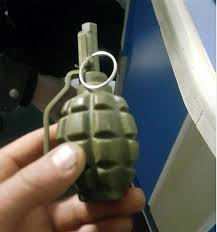e1: (43, 22, 138, 202)
